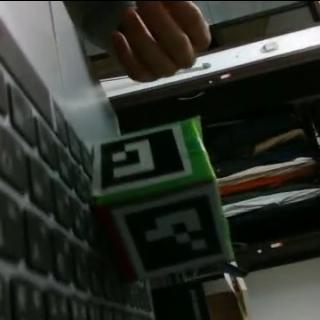armor: (110, 181, 232, 280), (92, 122, 192, 195)
robot: (89, 111, 232, 282)
